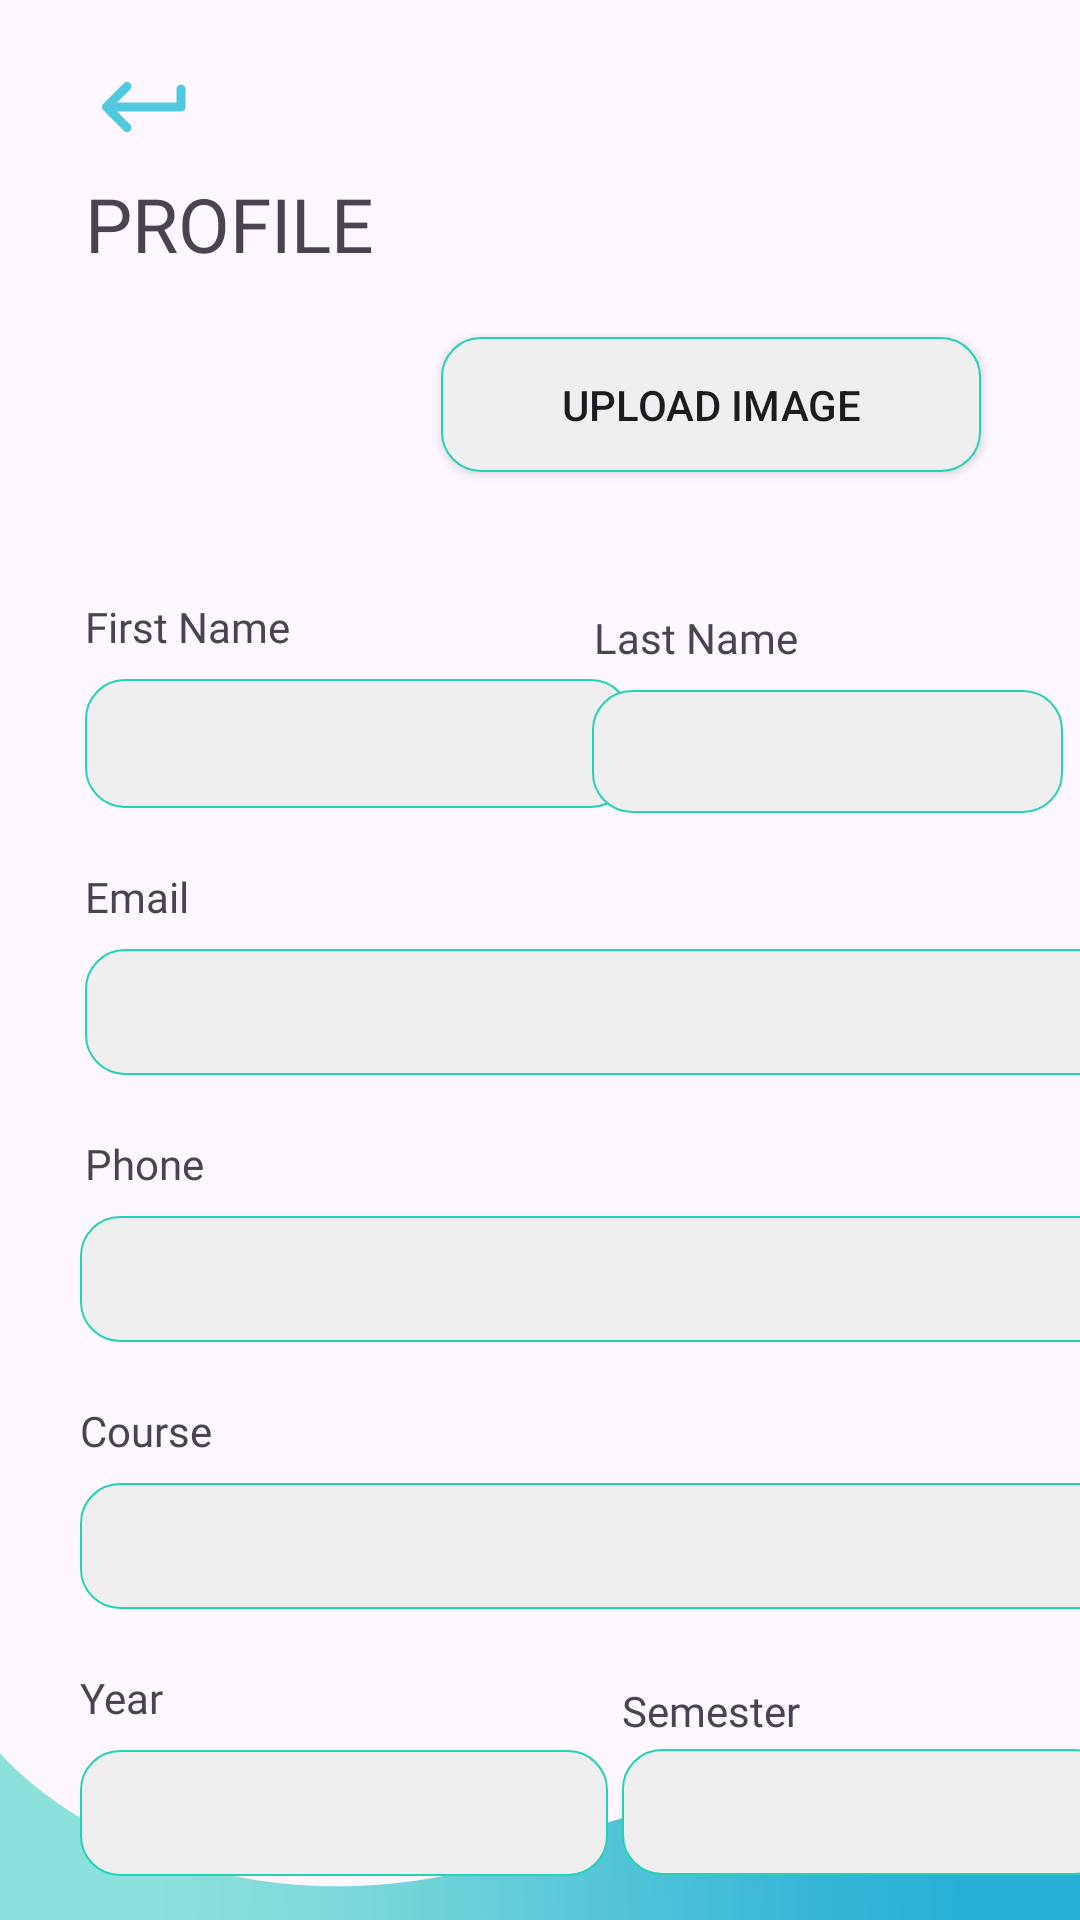

Screen size 1080 x 1920. Icon name, then its center in pixels as (x,y):
keyboard return: (144,107)
